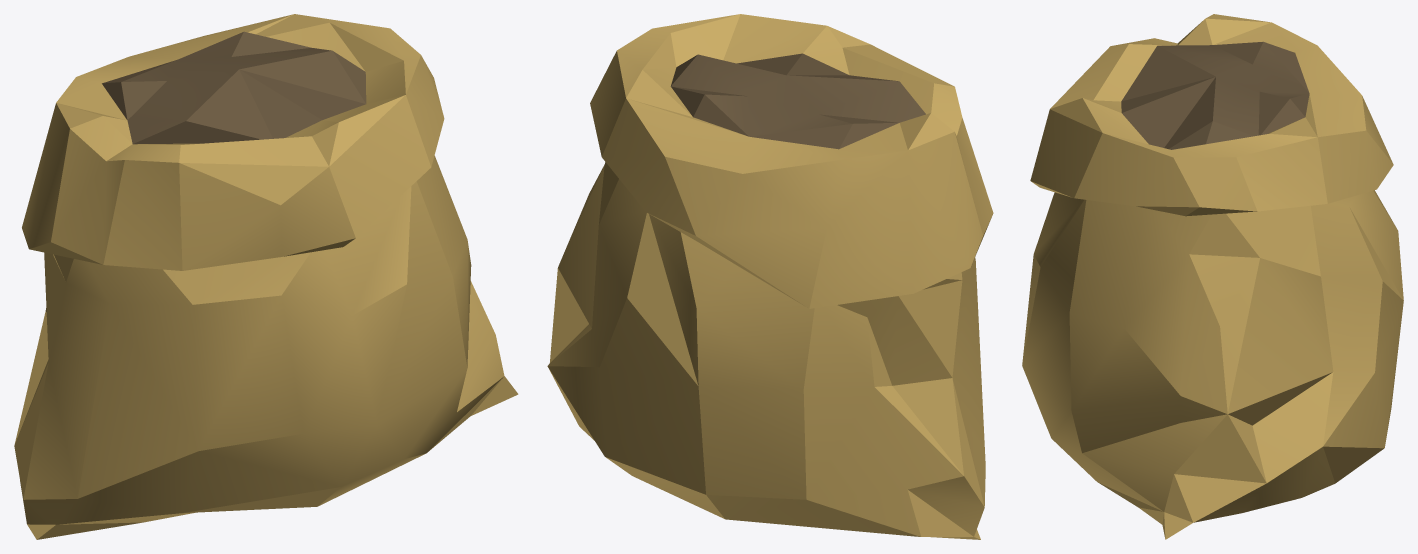
Rendered from EA03_Prop_Container_Bag_02a.glb.
3 views of the same model, side by side, from view 1: azimuth 30°, elevation 25°; view 2: azimuth 150°, elevation 25°; view 3: azimuth 270°, elevation 25° (orthographic). The views are drawn at different scales.
Parts seen in each view (by area): view 1: EA03_Prop_Container_Bag_02a; view 2: EA03_Prop_Container_Bag_02a; view 3: EA03_Prop_Container_Bag_02a.
Boxes of the visible parts, left/top/right/bottom form: EA03_Prop_Container_Bag_02a: left=14, top=14, right=518, bottom=539; EA03_Prop_Container_Bag_02a: left=547, top=14, right=993, bottom=539; EA03_Prop_Container_Bag_02a: left=1022, top=14, right=1403, bottom=539.
Bounding box in the file's own units: 0.8154 × 0.7149 × 0.6179.
Materials: 1 (1 with a texture image).
